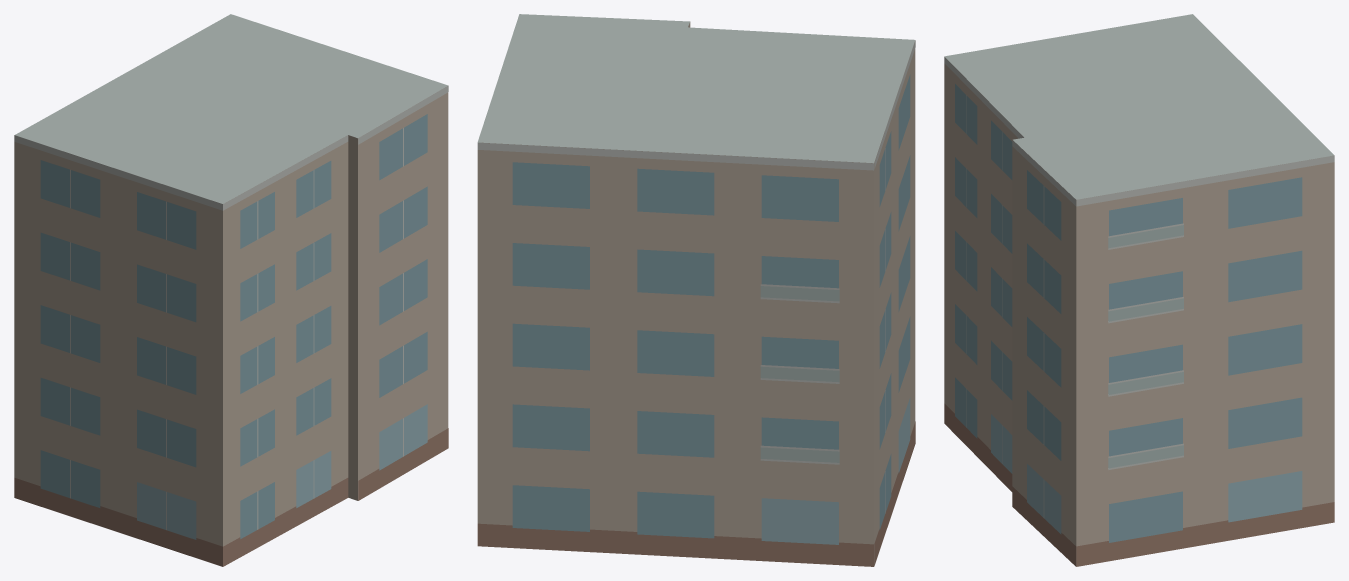
Rendered from survey-upis-32988024.glb.
3 renders of one model, left to right at view 1: azimuth 30°, elevation 25°; view 2: azimuth 150°, elevation 25°; view 3: azimuth 270°, elevation 25°, orthographic. The views are drawn at different scales.
Visible parts, largest first — view 1: survey-upis-32988024.tmp; view 2: survey-upis-32988024.tmp; view 3: survey-upis-32988024.tmp.
Boxes of the visible parts, bbox=[...] form: survey-upis-32988024.tmp: bbox=[14, 14, 448, 566]; survey-upis-32988024.tmp: bbox=[477, 14, 915, 566]; survey-upis-32988024.tmp: bbox=[944, 14, 1334, 566].
Size of the model in its own units: 14.56 by 13.4 by 12.93.
